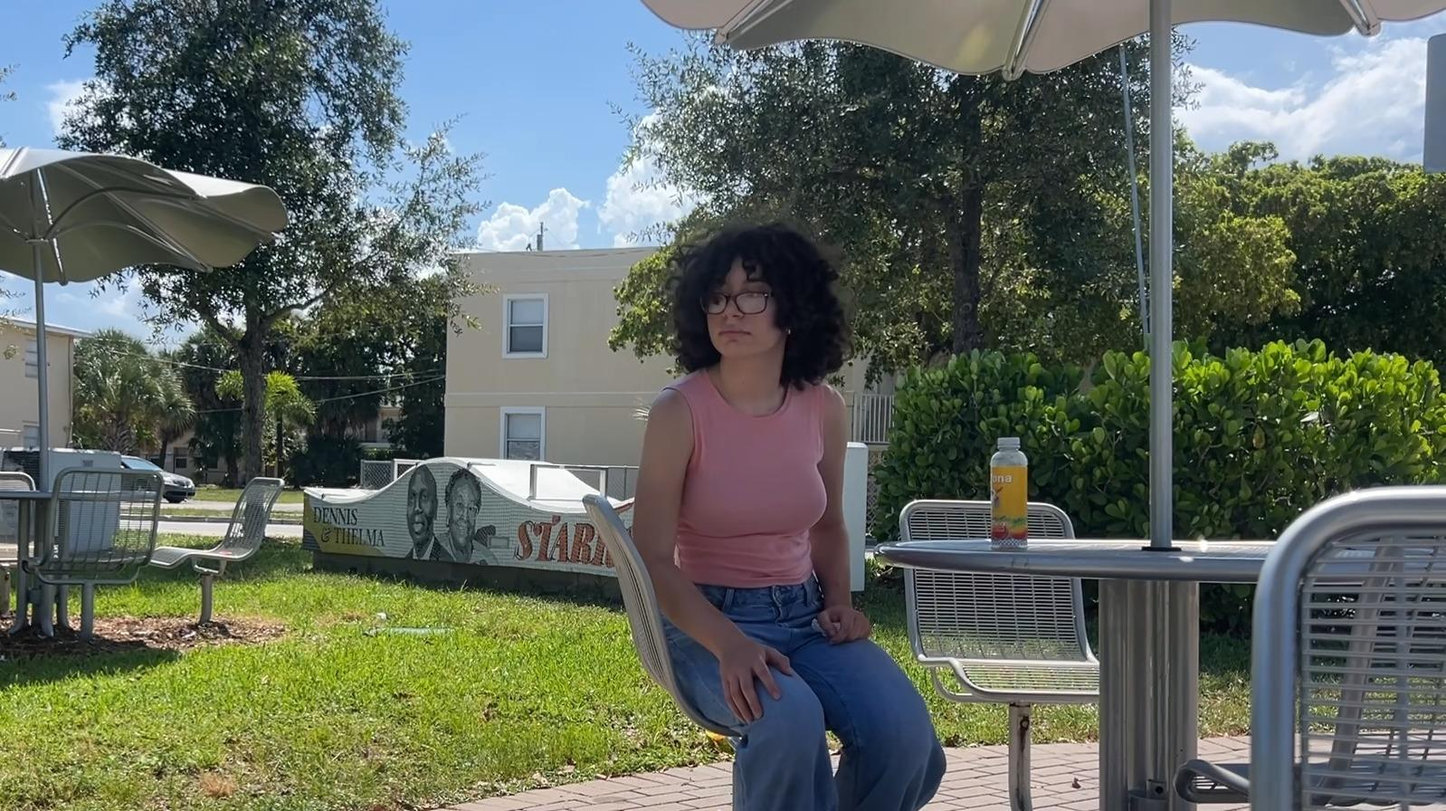Trash: (979, 421, 1047, 569)
